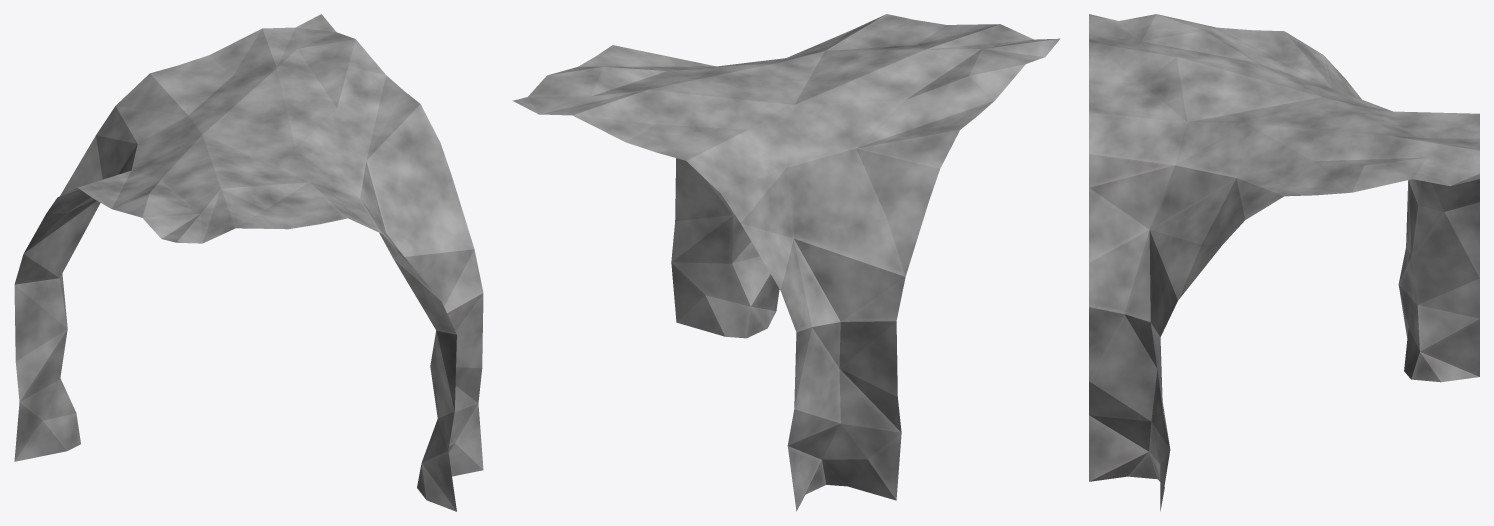
The model's file is RoofWallInnerCorner3.gltf.
3 renders of one model, left to right at view 1: azimuth 30°, elevation 25°; view 2: azimuth 150°, elevation 25°; view 3: azimuth 270°, elevation 25°, orthographic. The views are drawn at different scales.
Visible parts, largest first — view 1: RoofWallInnerCorner3; view 2: RoofWallInnerCorner3; view 3: RoofWallInnerCorner3.
Boxes of the visible parts, bbox=[...] form: RoofWallInnerCorner3: bbox=[14, 14, 483, 511]; RoofWallInnerCorner3: bbox=[512, 14, 1060, 511]; RoofWallInnerCorner3: bbox=[1089, 14, 1479, 511].
Size of the model in its own units: 5 by 4.7 by 5.
Materials: 1 (1 with a texture image).
